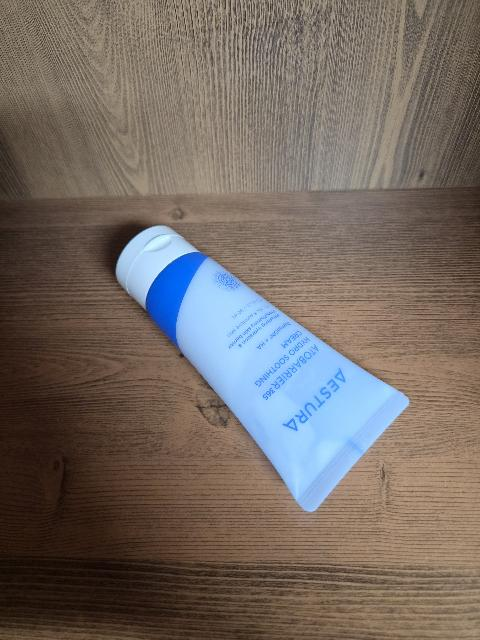handcream: (116, 226, 409, 512)
